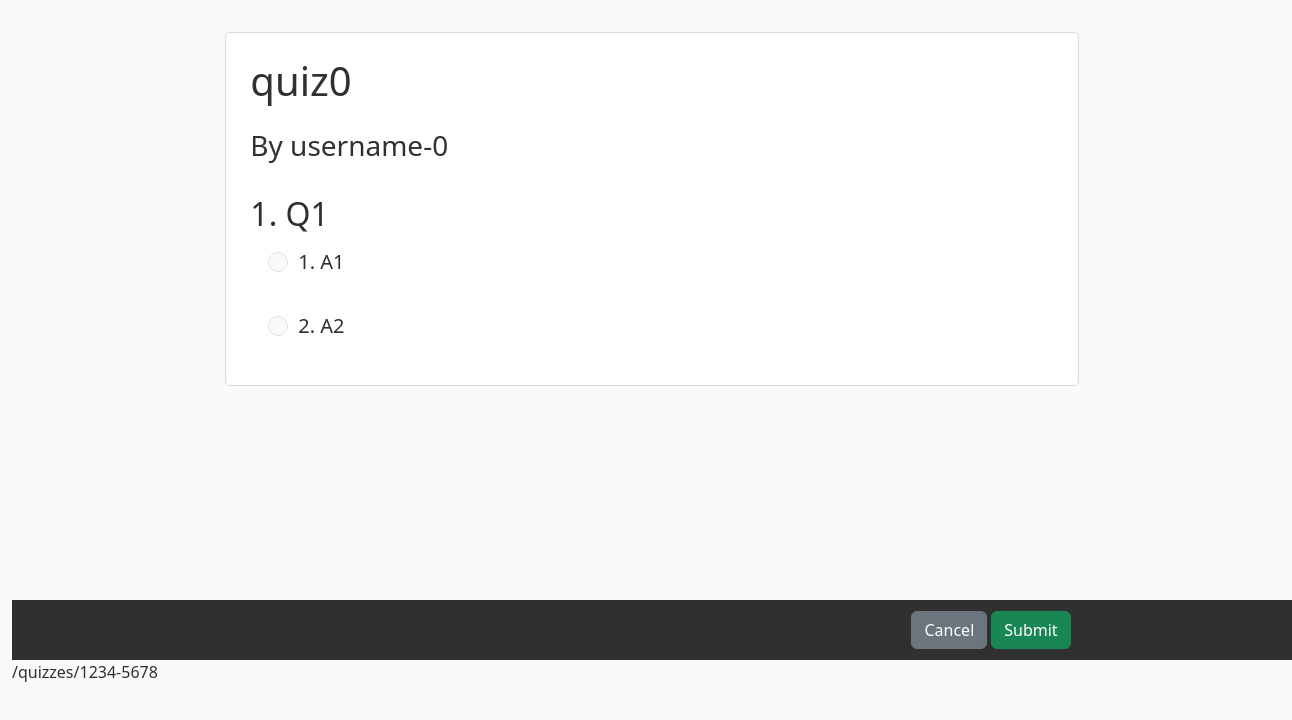
QuizAnswerForm › redirects to /dashboard if cancel is clicked
The image size is (1292, 720).
Click the button "Cancel". click: [949, 630]
box: top-left (912, 611), bottom-right (987, 649)
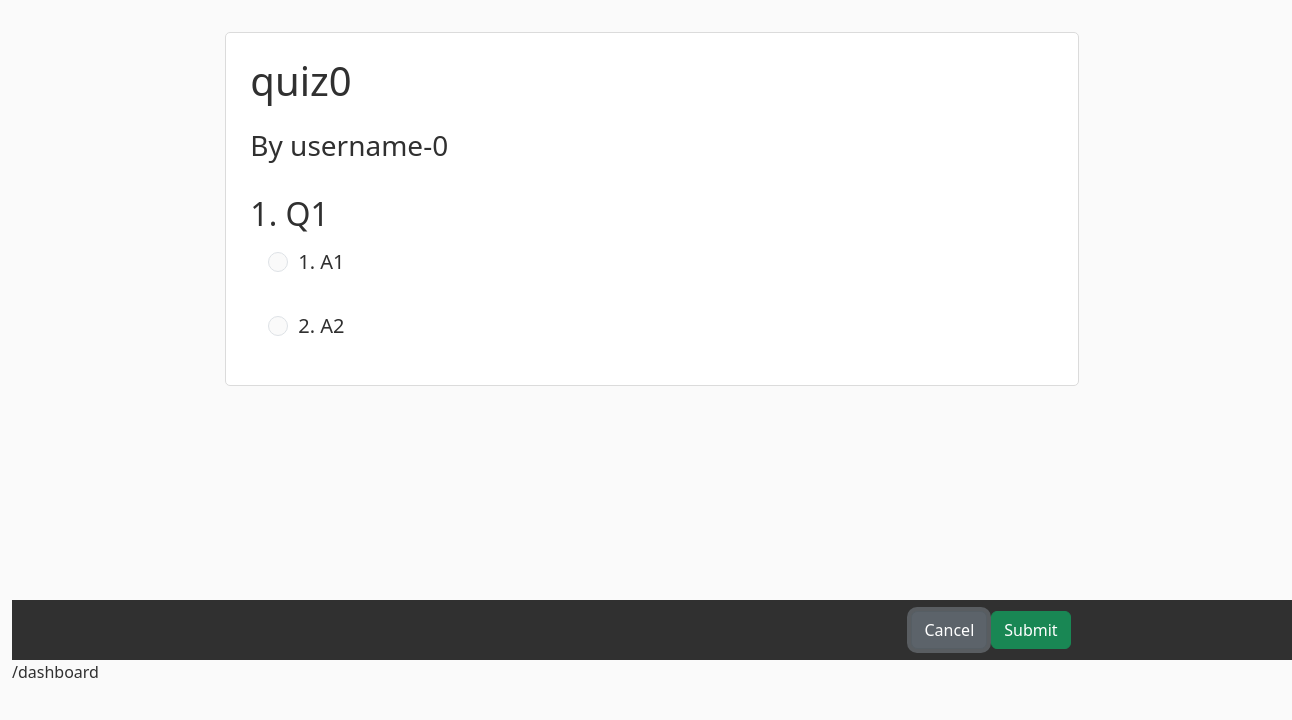
Check: the text with test id "router-location" reads "/dashboard", box top-left (12, 661), bottom-right (99, 683)
